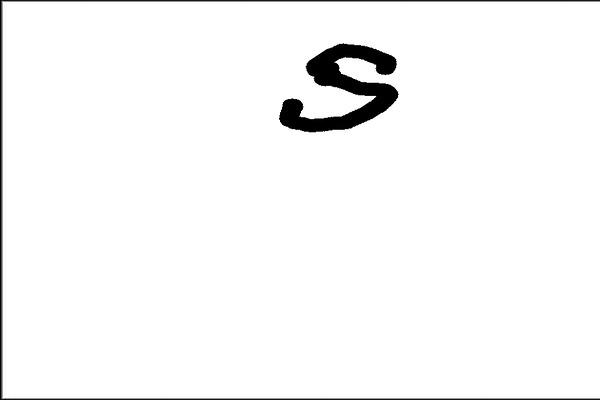S: (269, 37, 403, 140)
